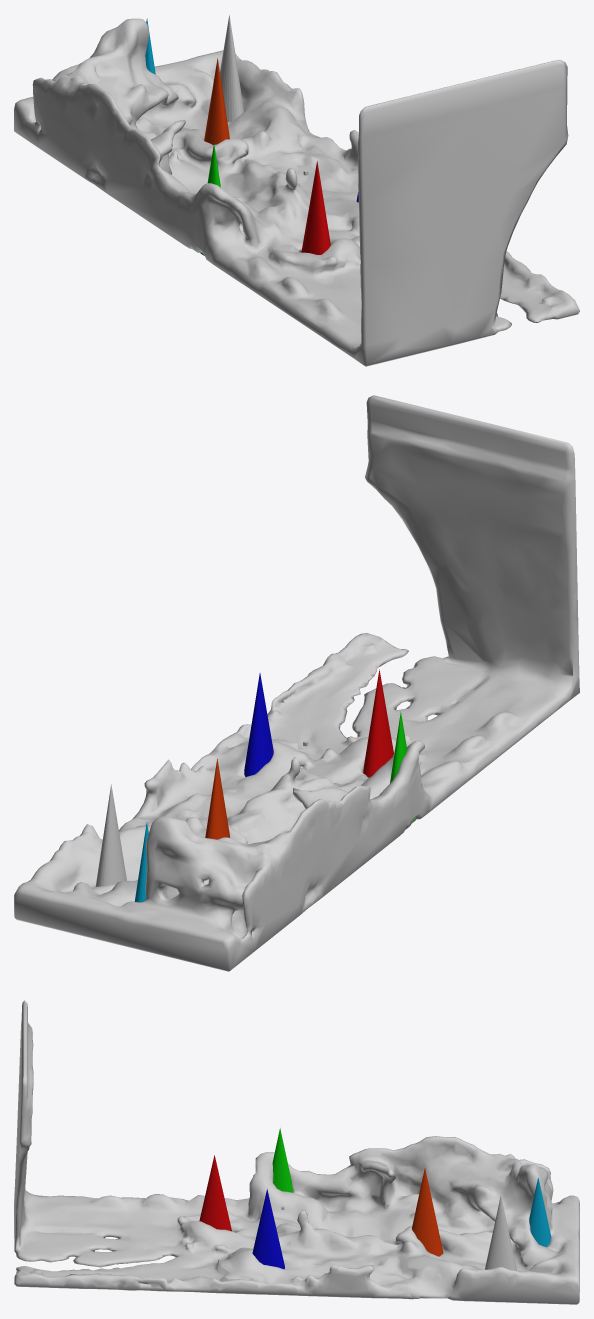
3 views of the same model, one above another, from view 1: azimuth 30°, elevation 25°; view 2: azimuth 150°, elevation 25°; view 3: azimuth 270°, elevation 25° (orthographic). The views are drawn at different scales.
Parts seen in each view (by area): view 1: Liquid_Domain, 円錐.001, 円錐, 円錐.004; view 2: Liquid_Domain, 円錐.001, 円錐, 円錐.002, 円錐.004; view 3: Liquid_Domain, 円錐.004, 円錐.002, 円錐.001, 円錐, 円錐.005, 円錐.003.
Part boxes in pixels (box(x1,y1,x2,y2)): Liquid_Domain: box(14, 18, 579, 366); 円錐.001: box(301, 161, 330, 254); 円錐: box(220, 15, 243, 122); 円錐.004: box(204, 58, 229, 144); Liquid_Domain: box(14, 395, 579, 971); 円錐.001: box(363, 669, 393, 777); 円錐: box(95, 784, 126, 886); 円錐.002: box(244, 673, 273, 776); 円錐.004: box(205, 759, 229, 839); Liquid_Domain: box(14, 1000, 579, 1304); 円錐.004: box(412, 1168, 443, 1256); 円錐.002: box(252, 1189, 284, 1269); 円錐.001: box(199, 1155, 231, 1231); 円錐: box(485, 1195, 516, 1270); 円錐.005: box(529, 1177, 551, 1246); 円錐.003: box(272, 1128, 292, 1192).
Bounding box in the file's own units: 129 × 158 × 361.
